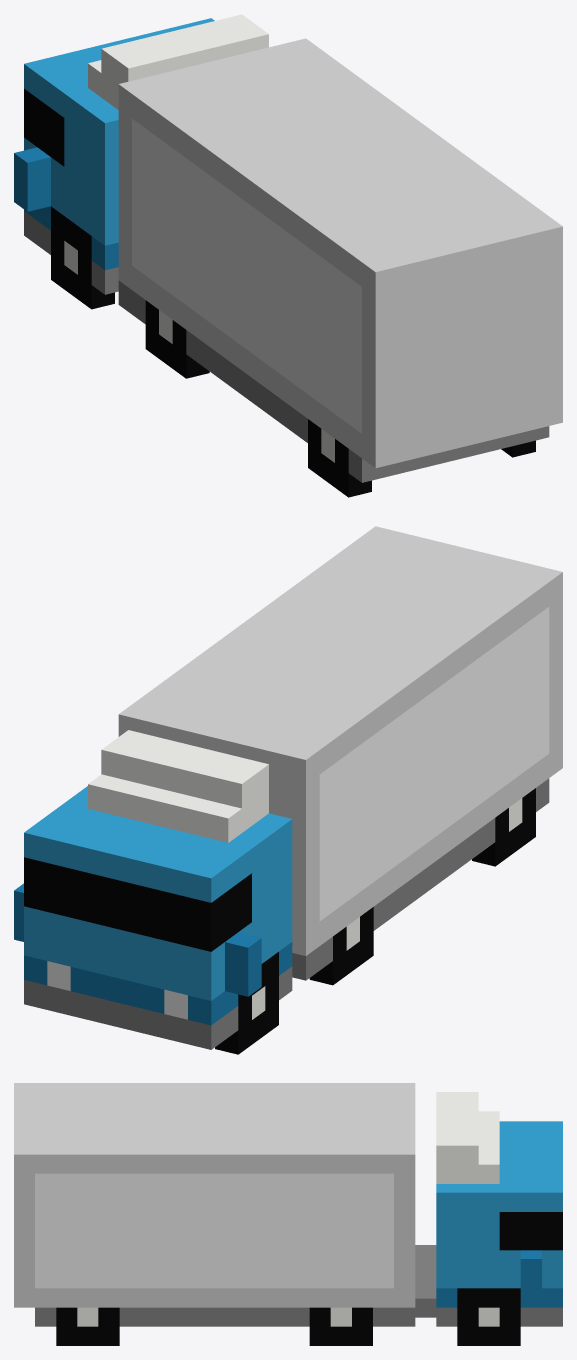
File: Car5.obj
The picture shows the model from 3 angles, top to bottom: view 1: azimuth 30°, elevation 25°; view 2: azimuth 150°, elevation 25°; view 3: azimuth 270°, elevation 25°; orthographic projection. The views are drawn at different scales.
Size of the model in its own units: 1 by 1 by 2.6.
1 material, 1 textured.
